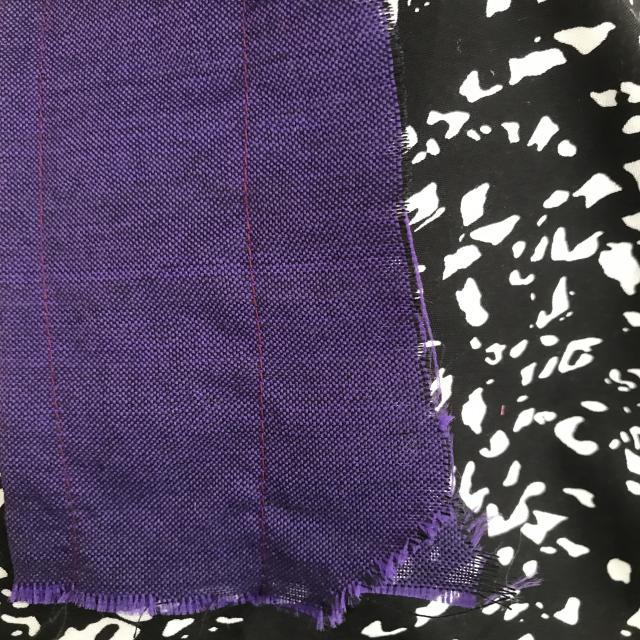good: (230, 81, 264, 278), (242, 376, 288, 499)
